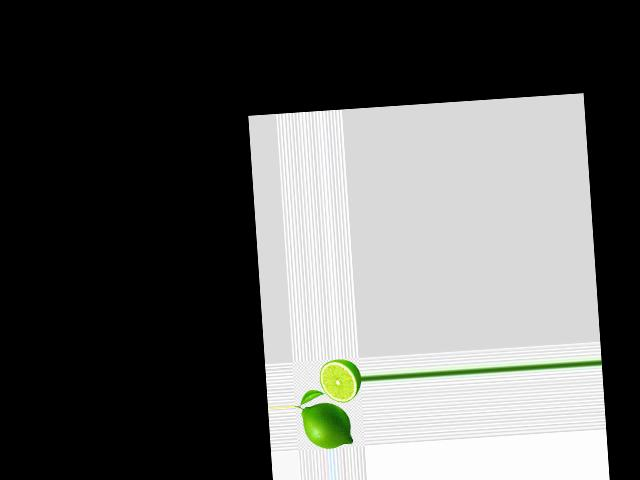lemon: (299, 394, 355, 449)
